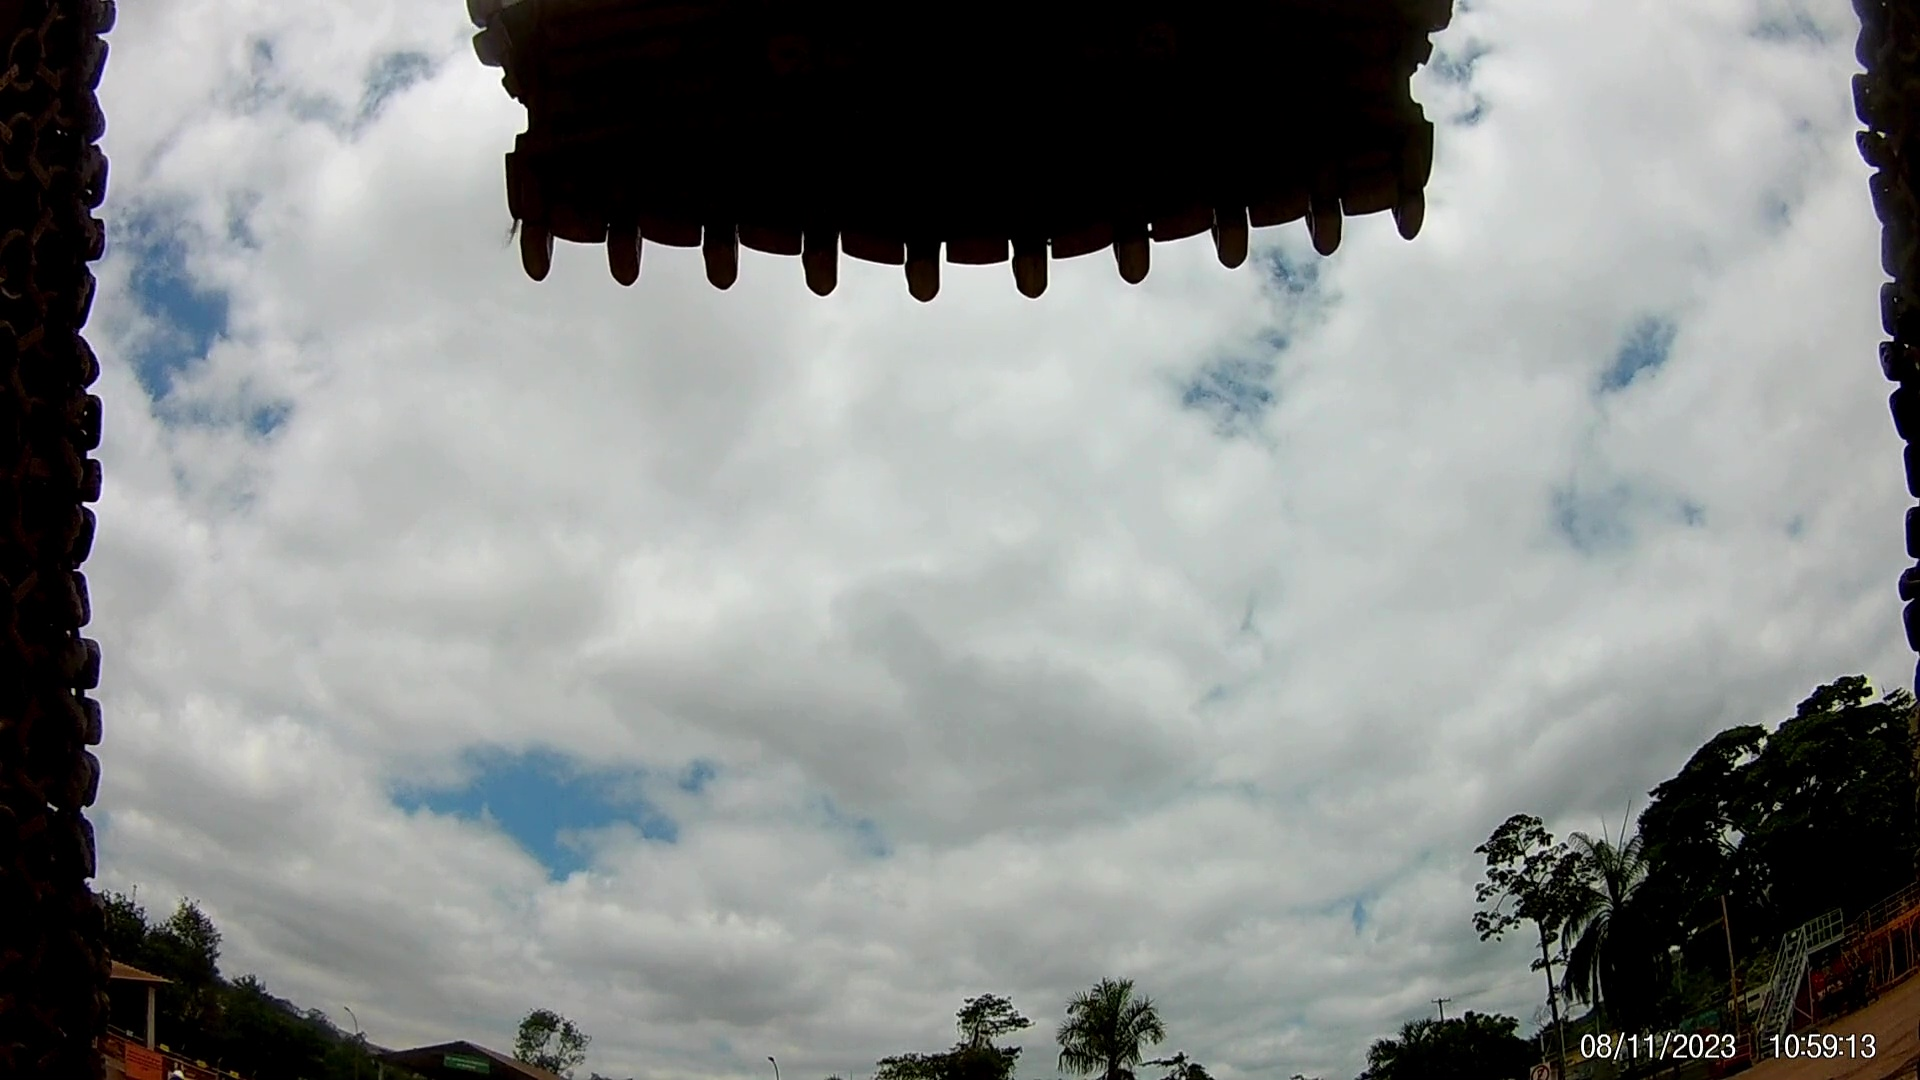FPS: (994, 219, 1083, 324), (796, 210, 858, 316), (1185, 191, 1258, 276), (1108, 198, 1170, 295), (694, 219, 746, 301), (513, 200, 563, 286), (1389, 160, 1435, 245), (1299, 185, 1356, 253), (905, 224, 947, 313), (613, 218, 658, 286)
